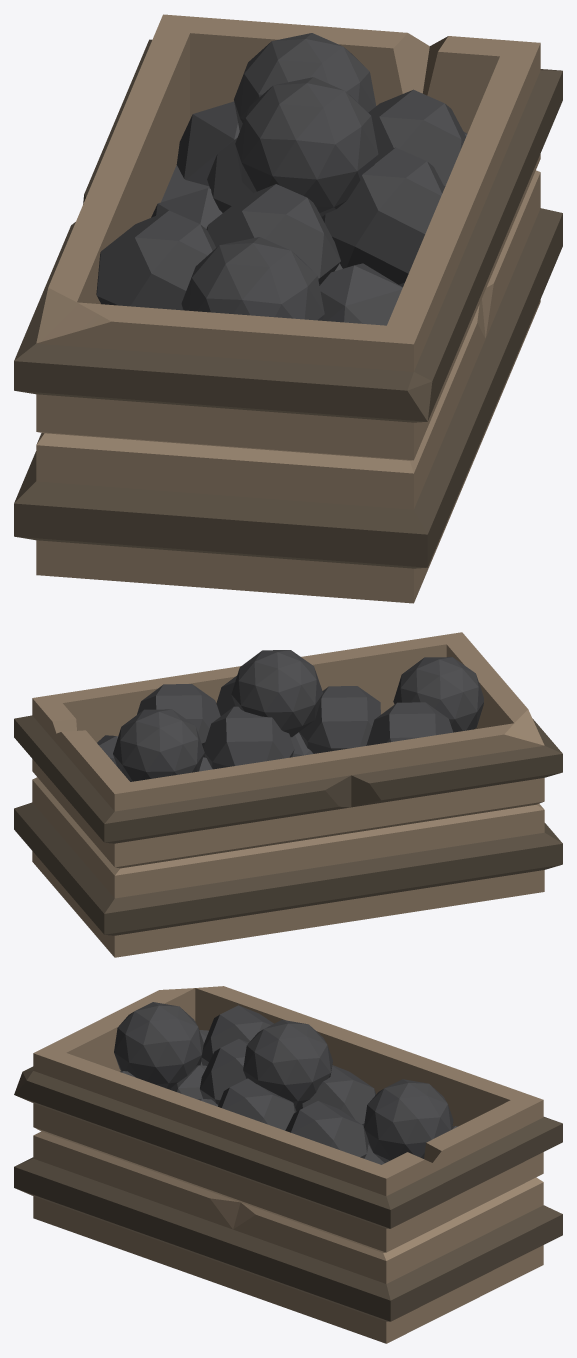
Rendered from Porta palle cannone.fbx.
3 views of the same model, one above another, from view 1: azimuth 30°, elevation 25°; view 2: azimuth 150°, elevation 25°; view 3: azimuth 270°, elevation 25° (orthographic). The views are drawn at different scales.
Visible parts, largest first — view 1: SM_Prop_Crate_Cannonballs_01; view 2: SM_Prop_Crate_Cannonballs_01; view 3: SM_Prop_Crate_Cannonballs_01.
Part boxes in pixels (x1=…): SM_Prop_Crate_Cannonballs_01: x1=14, y1=14, x2=562, y2=603; SM_Prop_Crate_Cannonballs_01: x1=14, y1=632, x2=562, y2=957; SM_Prop_Crate_Cannonballs_01: x1=14, y1=986, x2=562, y2=1343.
Size of the model in its own units: 101 by 47.86 by 106.
1 material, 1 textured.
